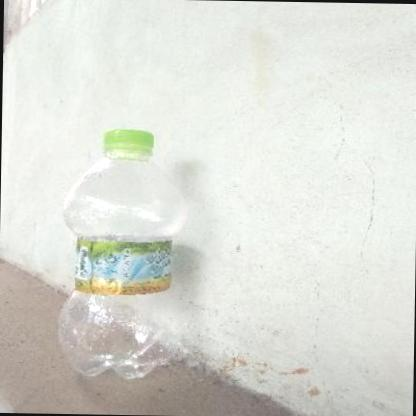plastic_bottles: (56, 124, 187, 382)
